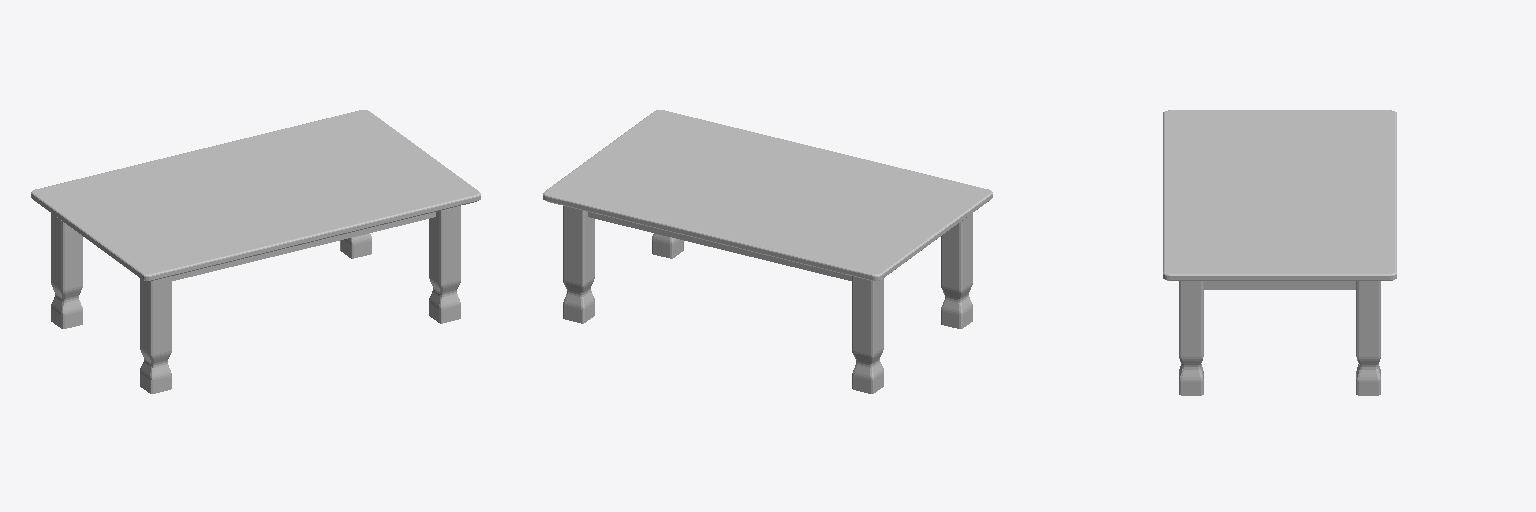
The model's file is table.obj.
The picture shows the model from 3 angles: view 1: azimuth 30°, elevation 25°; view 2: azimuth 150°, elevation 25°; view 3: azimuth 270°, elevation 25°; orthographic projection.
Parts seen in each view (by area): view 1: Cube; view 2: Cube; view 3: Cube.
Part boxes in pixels (bbox=[...]): Cube: bbox=[31, 110, 480, 393]; Cube: bbox=[543, 110, 992, 393]; Cube: bbox=[1163, 110, 1396, 395].
Size of the model in its own units: 2 by 0.72 by 1.2.